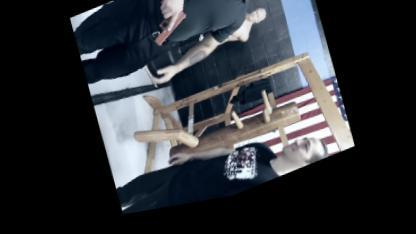pistol: (143, 0, 191, 53)
